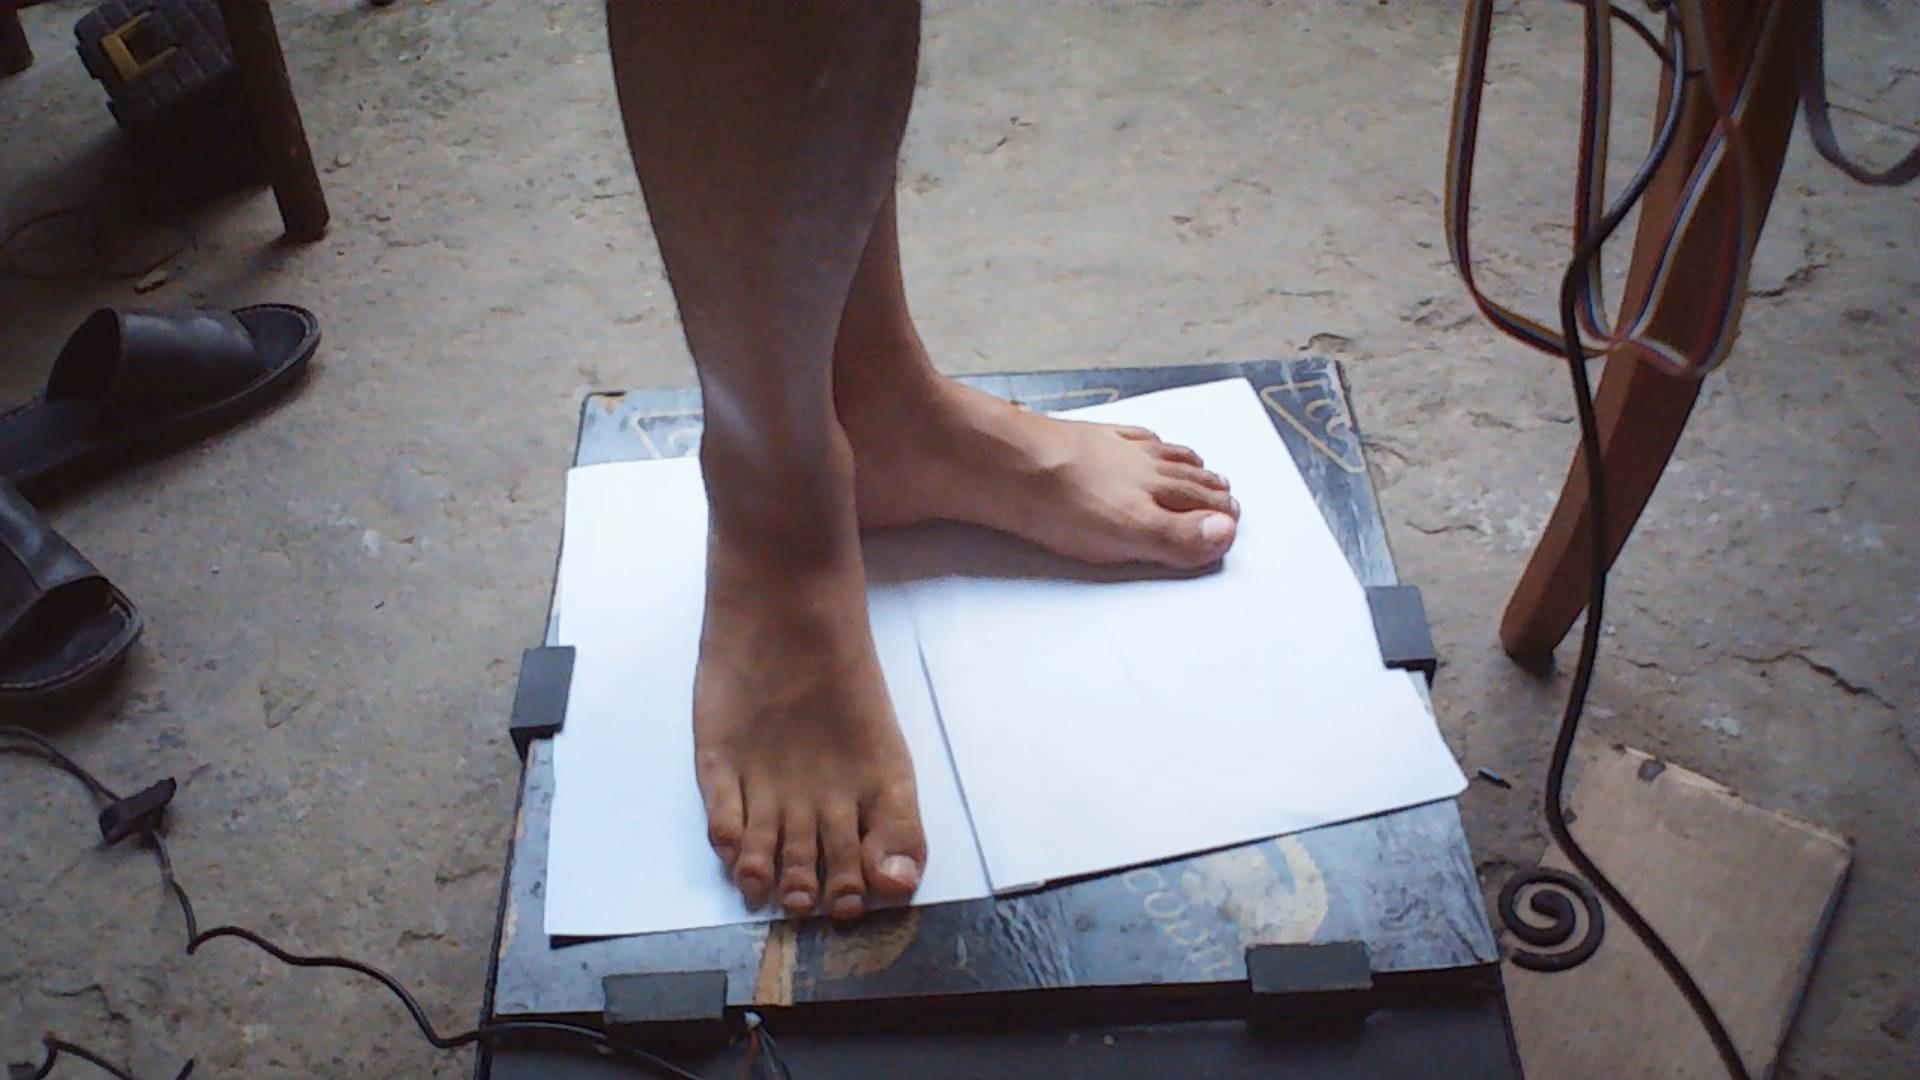Bare_feet: (669, 440, 936, 959), (825, 347, 1254, 584)
